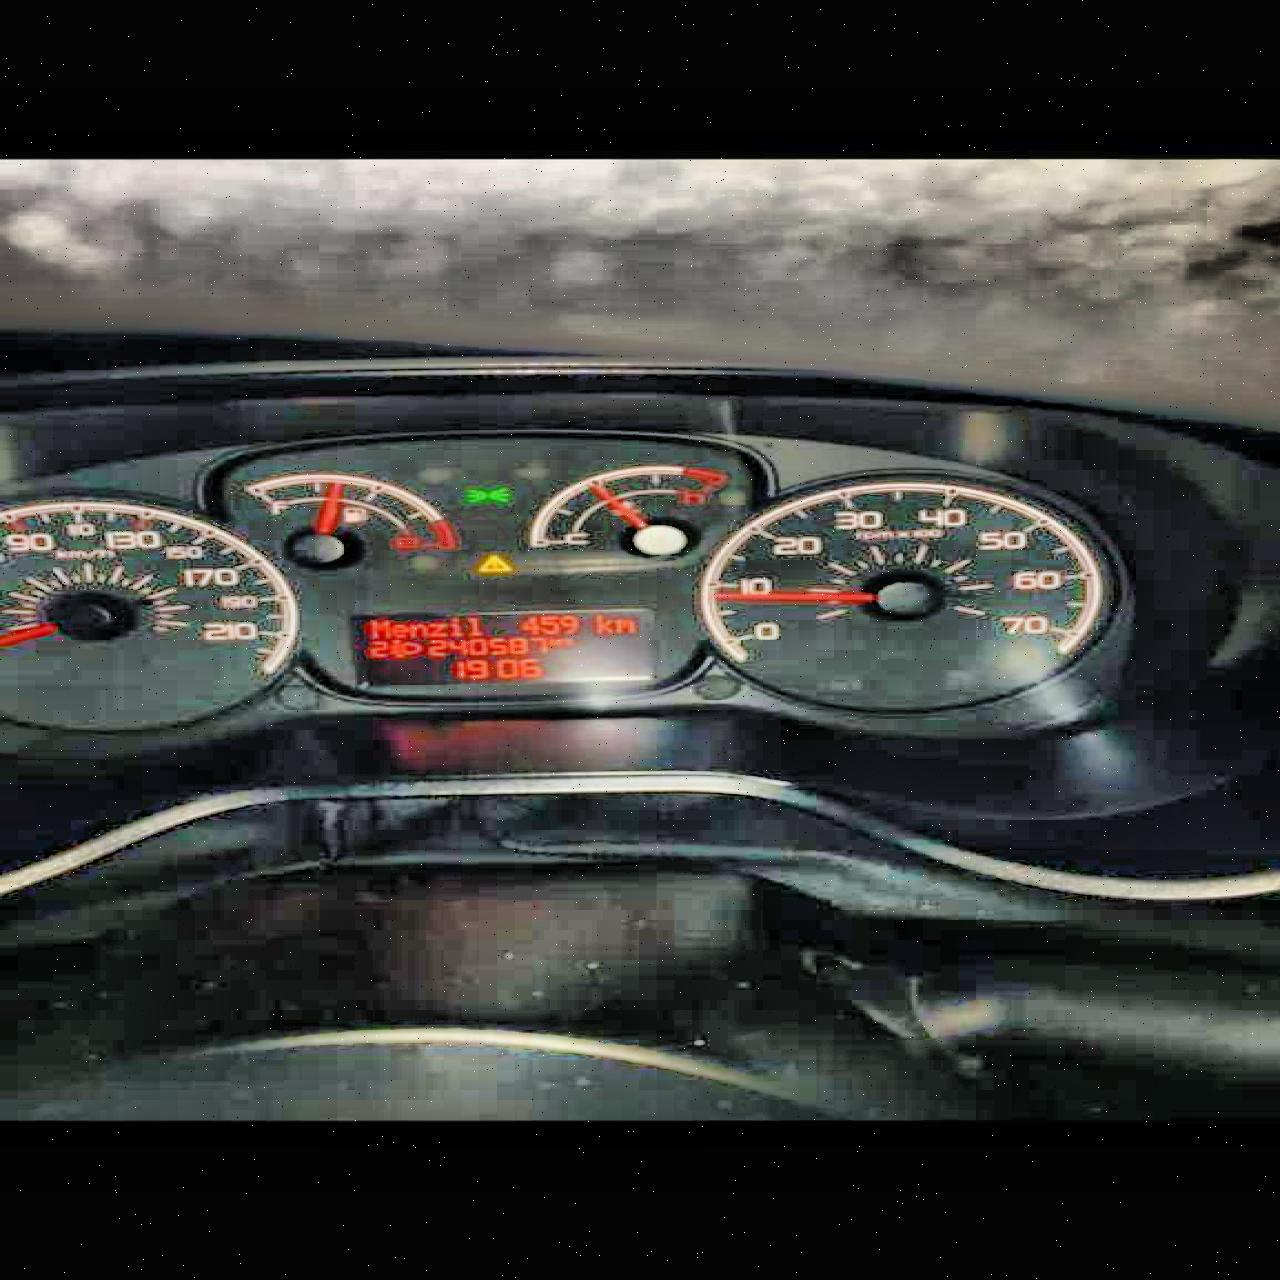0: (495, 658, 519, 678), (468, 639, 485, 655)
1: (455, 659, 463, 678)
2: (427, 639, 444, 655), (368, 640, 386, 656)
4: (519, 617, 539, 635), (445, 638, 467, 654)
5: (537, 613, 559, 633), (486, 638, 506, 655)
6: (519, 658, 544, 678)
7: (530, 635, 546, 653)
8: (508, 636, 527, 654)
9: (464, 659, 489, 678), (559, 613, 579, 633)
X: (612, 617, 636, 634), (592, 613, 613, 633), (368, 619, 390, 638), (465, 614, 482, 635), (445, 615, 462, 635), (425, 621, 445, 636), (408, 621, 425, 636), (390, 622, 406, 638), (557, 638, 574, 647), (546, 635, 557, 647)
odometer: (343, 607, 661, 685)
